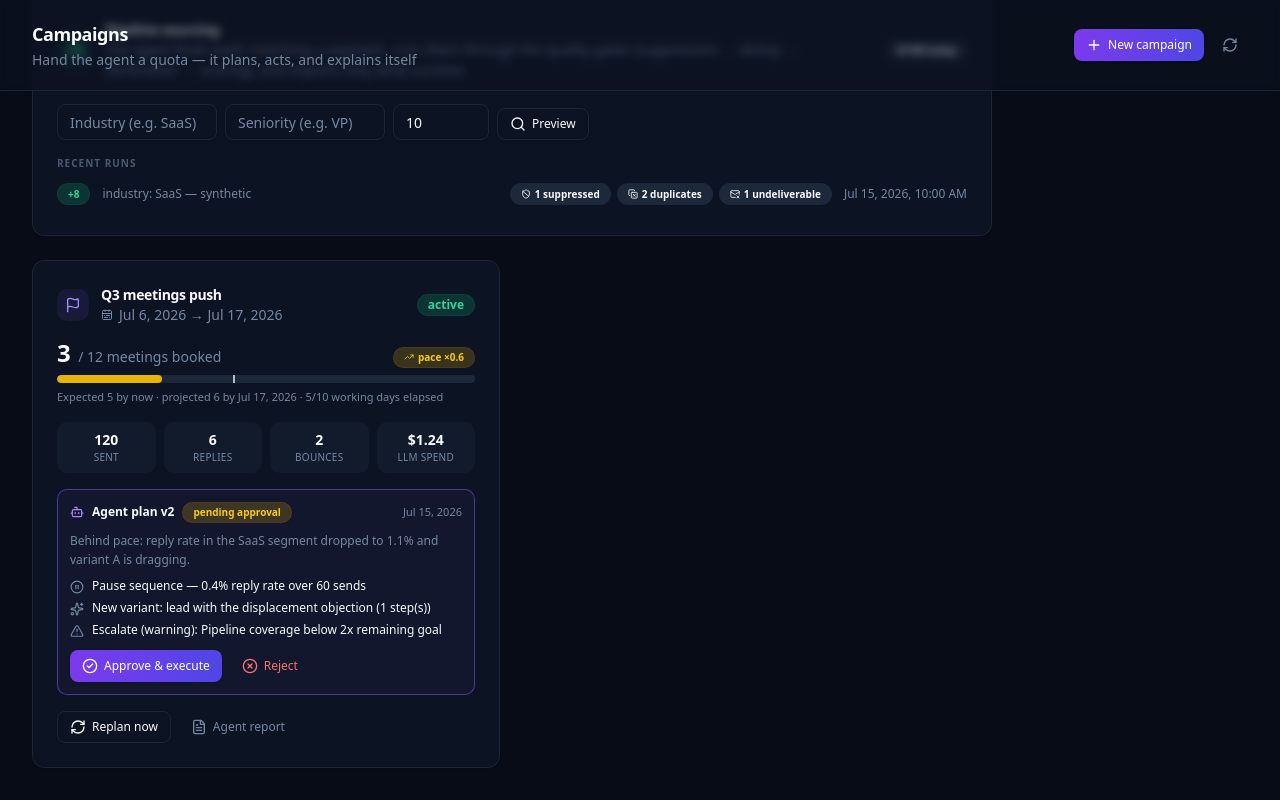
Test: Campaigns page › opens the agent report dialog
(page scrolled)
Expected: the heading "Q3 meetings push" is shown, [101,285,222,304]
Click the button "Agent report" at point(238, 726), box [179,710,297,742]
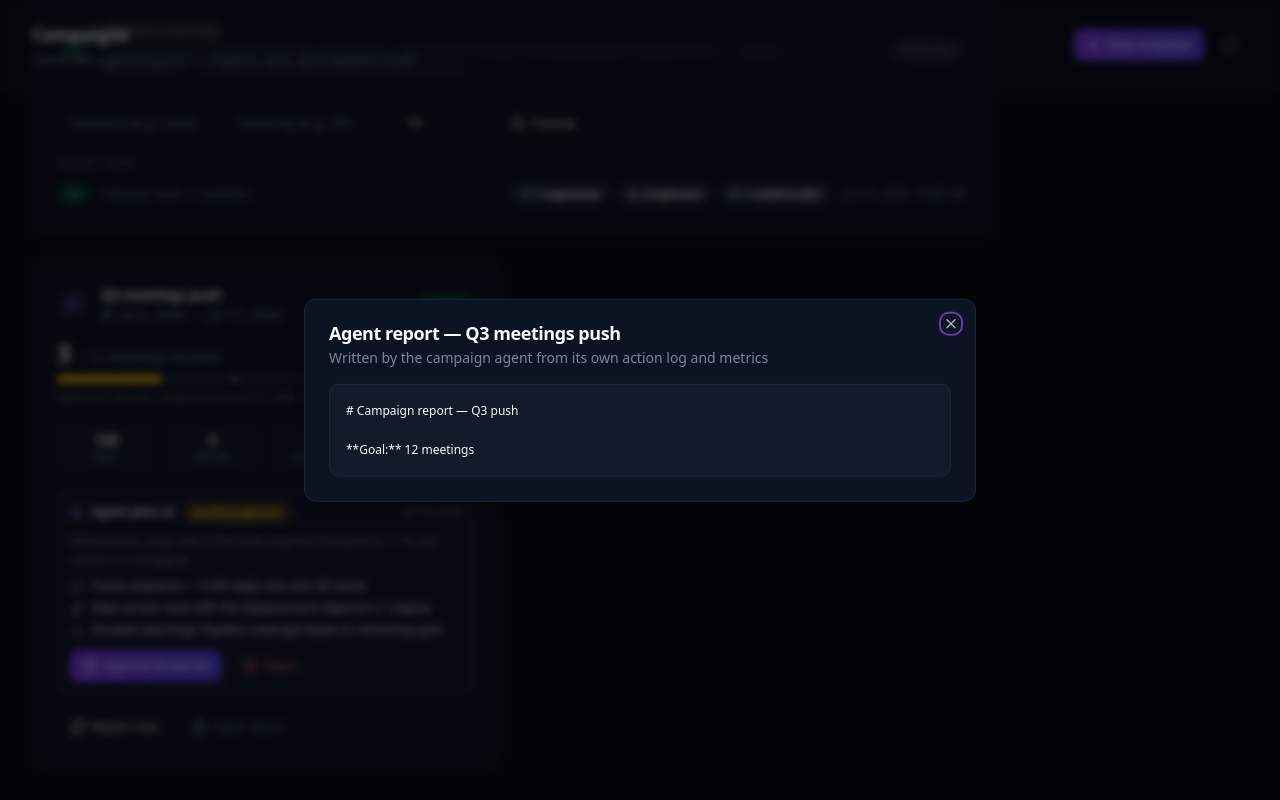
Result: the text "# Campaign report — Q3 push **Goal:** 12 meetings" is shown at [329,384,951,476]
